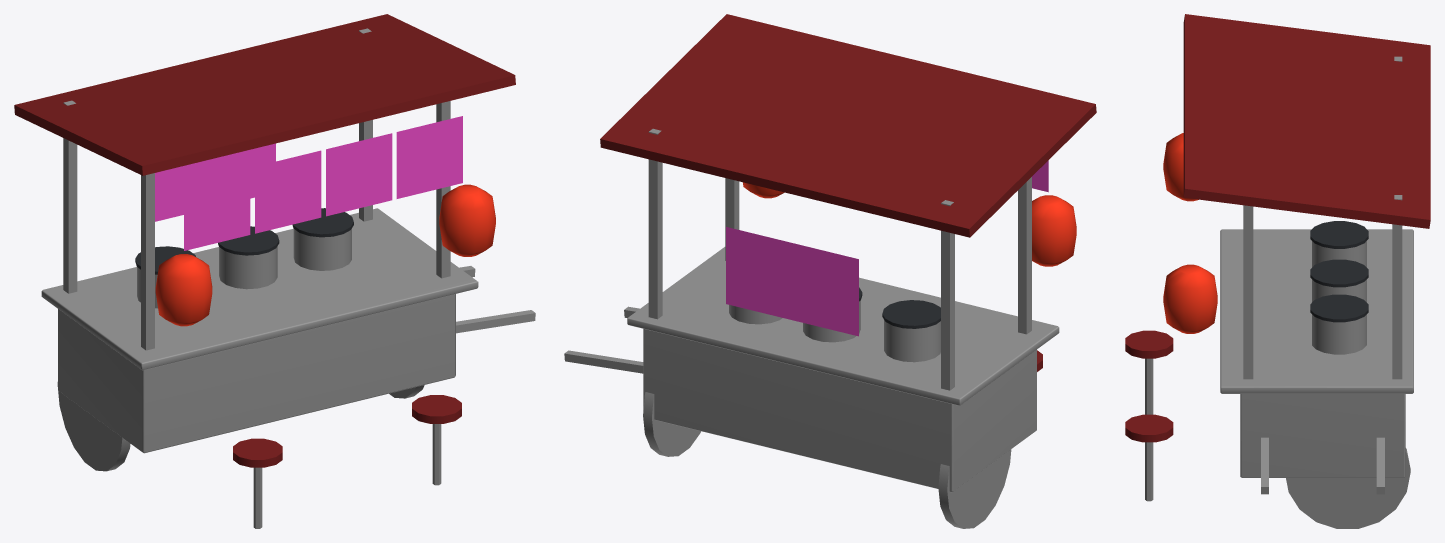
File: St_FoodCart_Yatai.fbx
3 renders of one model, left to right at view 1: azimuth 30°, elevation 25°; view 2: azimuth 150°, elevation 25°; view 3: azimuth 270°, elevation 25°, orthographic. The views are drawn at different scales.
Parts seen in each view (by area): view 1: St_FoodCart_Yatai_LOD0; view 2: St_FoodCart_Yatai_LOD0; view 3: St_FoodCart_Yatai_LOD0.
Part boxes in pixels (bbox=[...]): St_FoodCart_Yatai_LOD0: bbox=[14, 14, 535, 528]; St_FoodCart_Yatai_LOD0: bbox=[564, 14, 1096, 528]; St_FoodCart_Yatai_LOD0: bbox=[1125, 14, 1430, 528].
Size of what is drawn, in the model's own units: 2.9 by 2.38 by 1.85.
